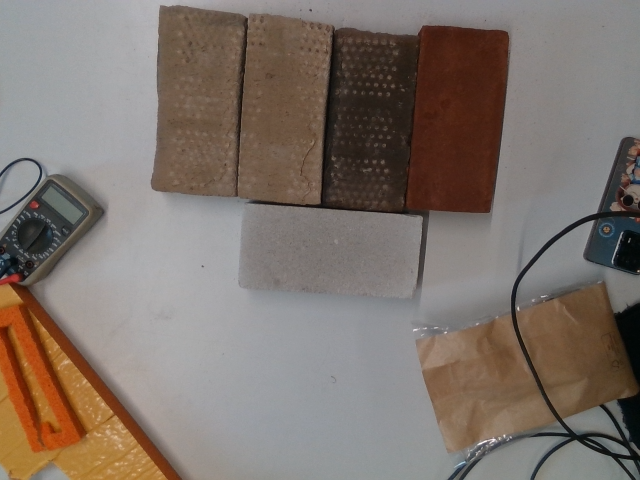brick: (405, 28, 509, 212), (238, 203, 420, 302), (237, 19, 332, 201), (323, 30, 417, 213), (152, 9, 243, 197)
